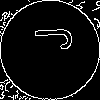J: (25, 25, 73, 52)
